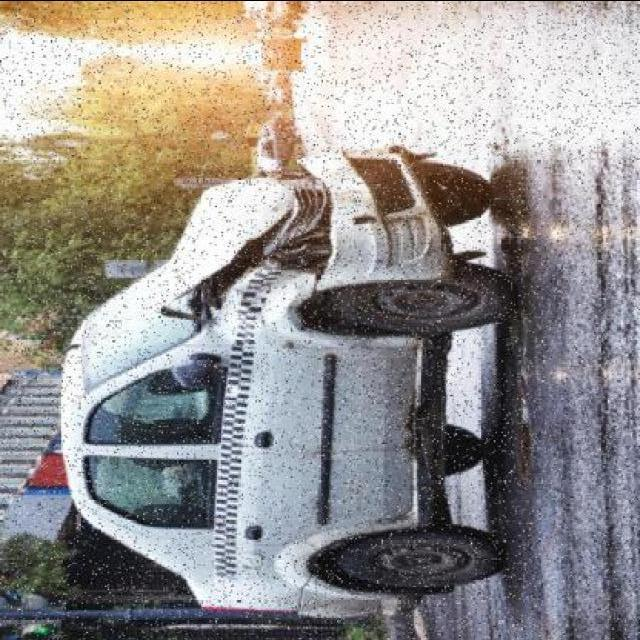RunningBoard-Dent: (389, 402, 433, 526)
bonnet-dent: (145, 174, 301, 328)
front-bumper-dent: (281, 133, 457, 304)
